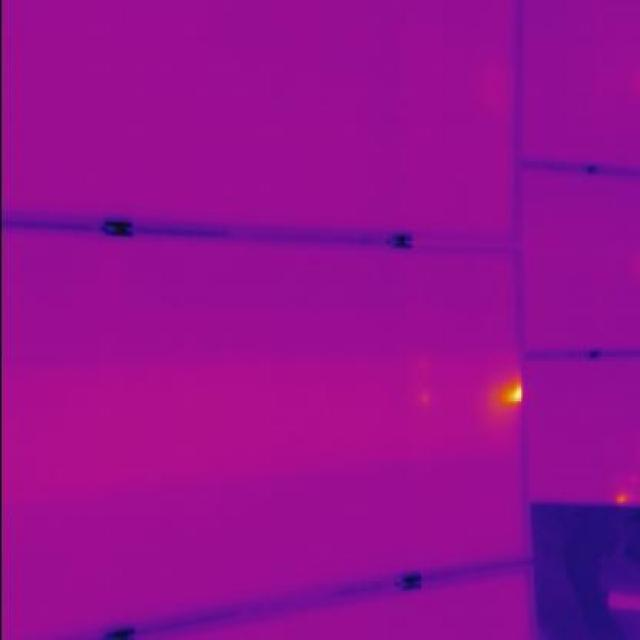hotspot: (499, 378, 526, 414)
